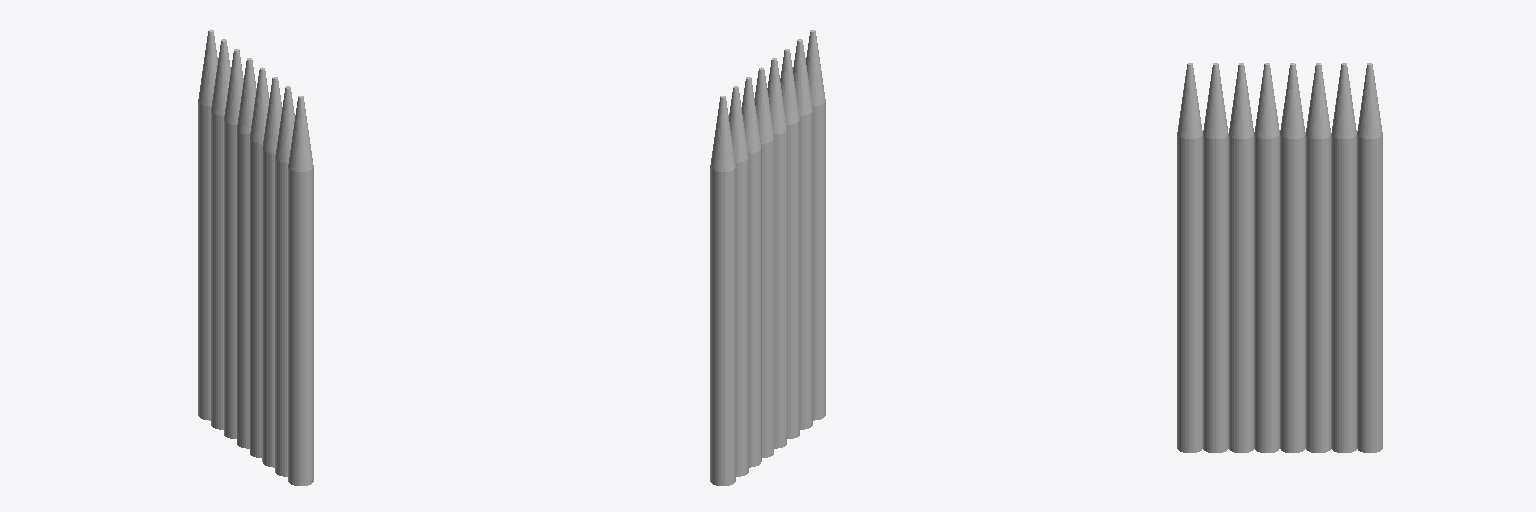
The model's file is Wall_2.obj.
3 renders of one model, left to right at view 1: azimuth 30°, elevation 25°; view 2: azimuth 150°, elevation 25°; view 3: azimuth 270°, elevation 25°, orthographic.
Parts seen in each view (by area): view 1: Cylinder.016_Cylinder.026, Cylinder.015_Cylinder.025; view 2: Cylinder.016_Cylinder.026, Cylinder.015_Cylinder.025; view 3: Cylinder.016_Cylinder.026, Cylinder.015_Cylinder.025.
Boxes of the visible parts, <box> form: Cylinder.016_Cylinder.026: <box>198,102,313,485</box>; Cylinder.015_Cylinder.025: <box>198,30,313,171</box>; Cylinder.016_Cylinder.026: <box>710,102,825,485</box>; Cylinder.015_Cylinder.025: <box>710,30,825,171</box>; Cylinder.016_Cylinder.026: <box>1177,134,1382,452</box>; Cylinder.015_Cylinder.025: <box>1177,63,1382,138</box>.
Size of the model in its own units: 2 by 33 by 16.